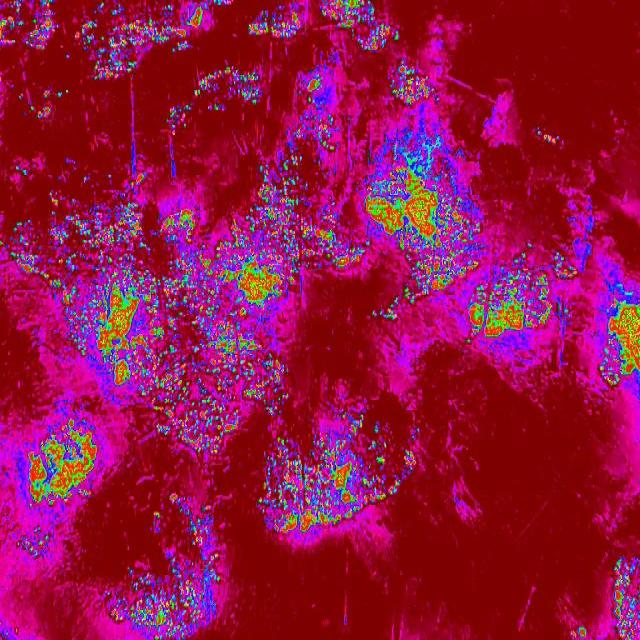fire: (44, 180, 301, 450), (363, 128, 484, 311), (263, 424, 417, 536), (114, 540, 228, 640), (0, 0, 210, 54), (466, 256, 570, 346), (20, 421, 111, 513), (302, 203, 364, 277), (318, 0, 396, 54), (603, 286, 640, 395), (386, 64, 443, 114), (612, 552, 640, 640)
